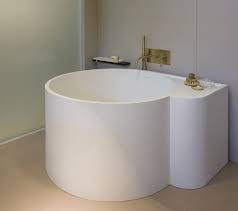bathub: (42, 65, 233, 203)
